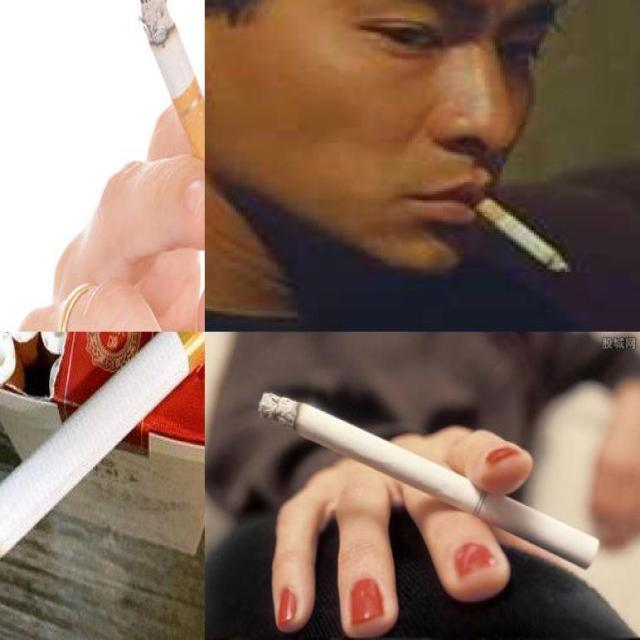smoking: (258, 393, 600, 570), (0, 332, 204, 590), (134, 0, 204, 220), (463, 182, 572, 276)
